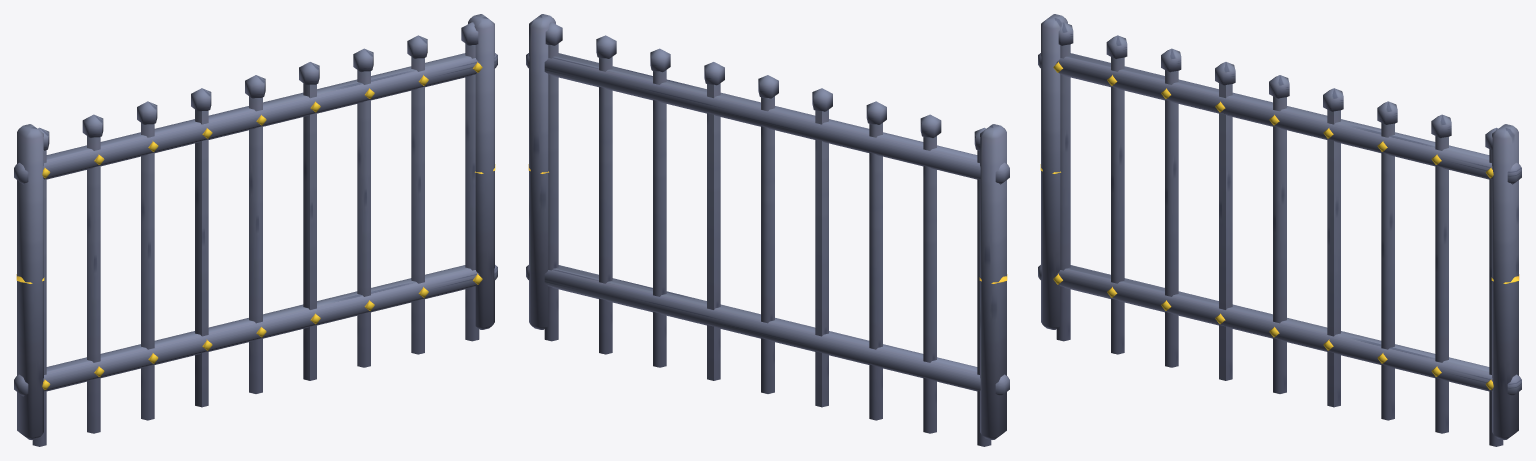
Rendered from iron_gate.glb.
3 views of the same model, side by side, from view 1: azimuth 30°, elevation 25°; view 2: azimuth 150°, elevation 25°; view 3: azimuth 330°, elevation 25° (orthographic).
Visible parts, largest first — view 1: iron_gate; view 2: iron_gate; view 3: iron_gate.
Part boxes in pixels (left/top/right/bottom): iron_gate: left=14, top=14, right=497, bottom=446; iron_gate: left=526, top=14, right=1009, bottom=446; iron_gate: left=1038, top=14, right=1521, bottom=446.
Size of the model in its own units: 5.2 by 3.3 by 0.2628.
2 materials, 2 textured.
